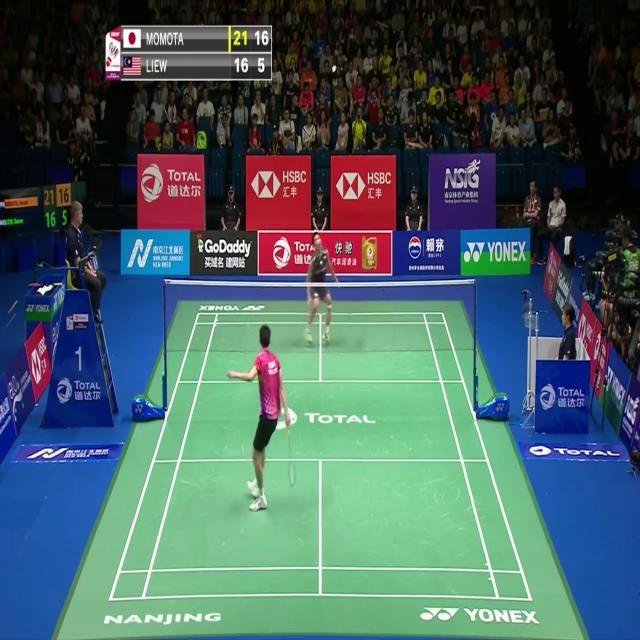Shuttlecock: (331, 63, 338, 74)
